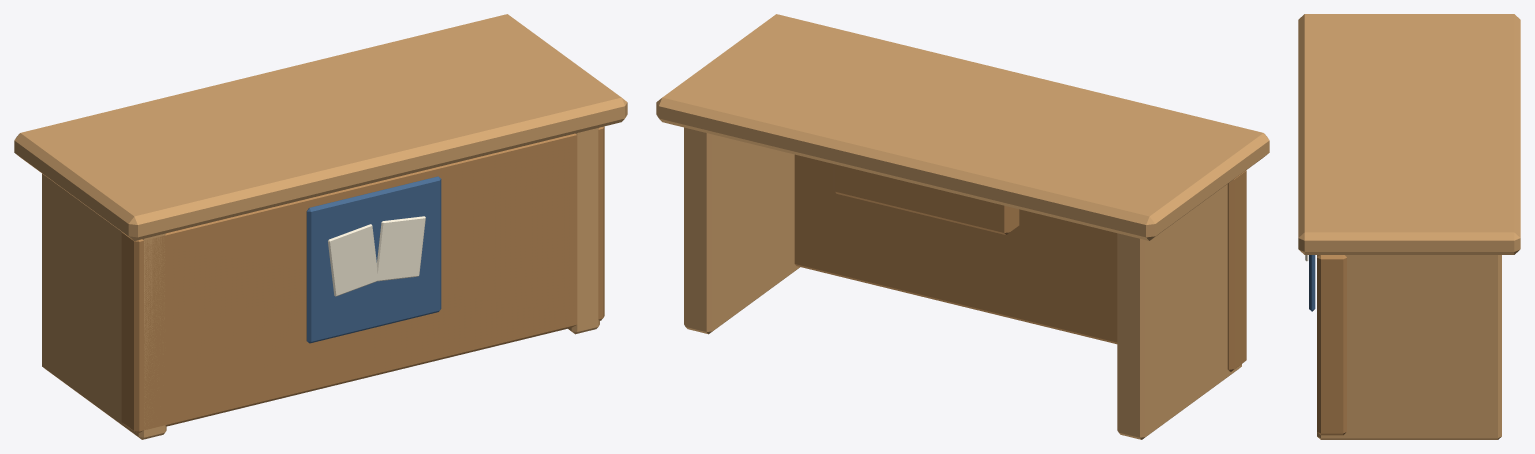
Rendered from teacher-desk.glb.
3 views of the same model, side by side, from view 1: azimuth 30°, elevation 25°; view 2: azimuth 150°, elevation 25°; view 3: azimuth 270°, elevation 25° (orthographic). The views are drawn at different scales.
Visible parts, largest first — view 1: teacher_desk; view 2: teacher_desk; view 3: teacher_desk.
Boxes of the visible parts, x1=… form: teacher_desk: x1=14, y1=14, x2=627, y2=439; teacher_desk: x1=656, y1=14, x2=1269, y2=439; teacher_desk: x1=1298, y1=14, x2=1520, y2=439.
Bounding box in the file's own units: 2.12 × 0.95 × 0.89.
